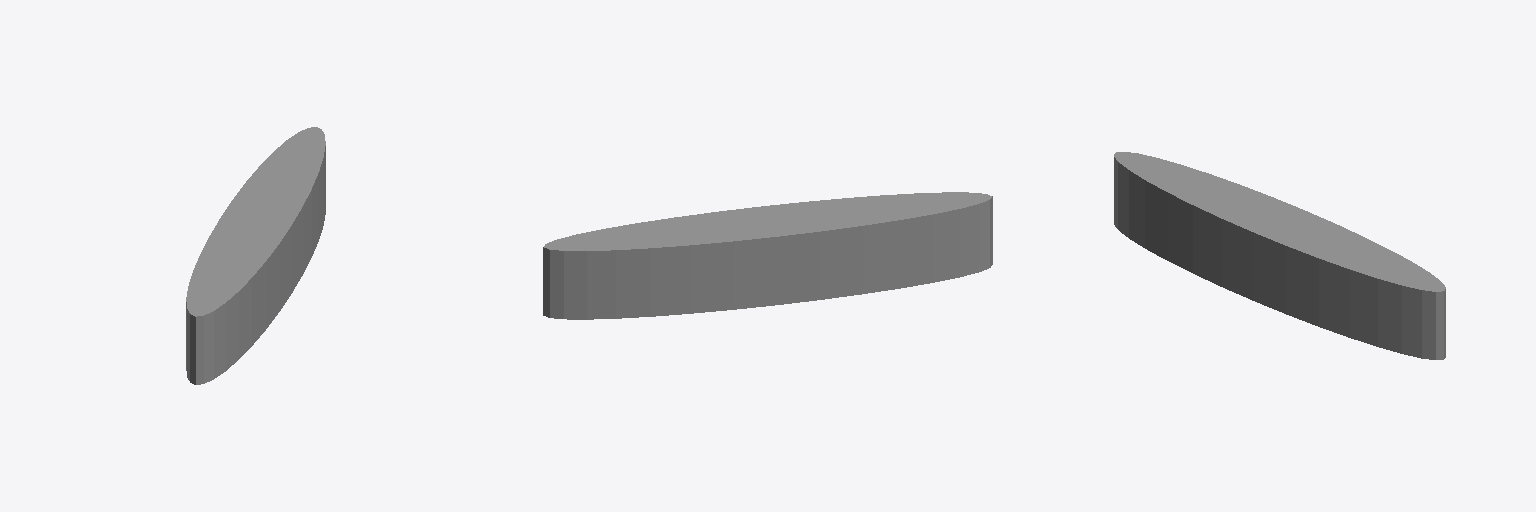
The model's file is rightpaddle.obj.
3 views of the same model, side by side, from view 1: azimuth 30°, elevation 25°; view 2: azimuth 150°, elevation 25°; view 3: azimuth 270°, elevation 25° (orthographic).
Parts seen in each view (by area): view 1: Cube; view 2: Cube; view 3: Cube.
Boxes of the visible parts, x1,y1,x2,y2 form: Cube: [186, 127, 325, 384]; Cube: [543, 192, 992, 319]; Cube: [1114, 152, 1445, 359].
Size of the model in its own units: 10.61 by 2.41 by 10.61.